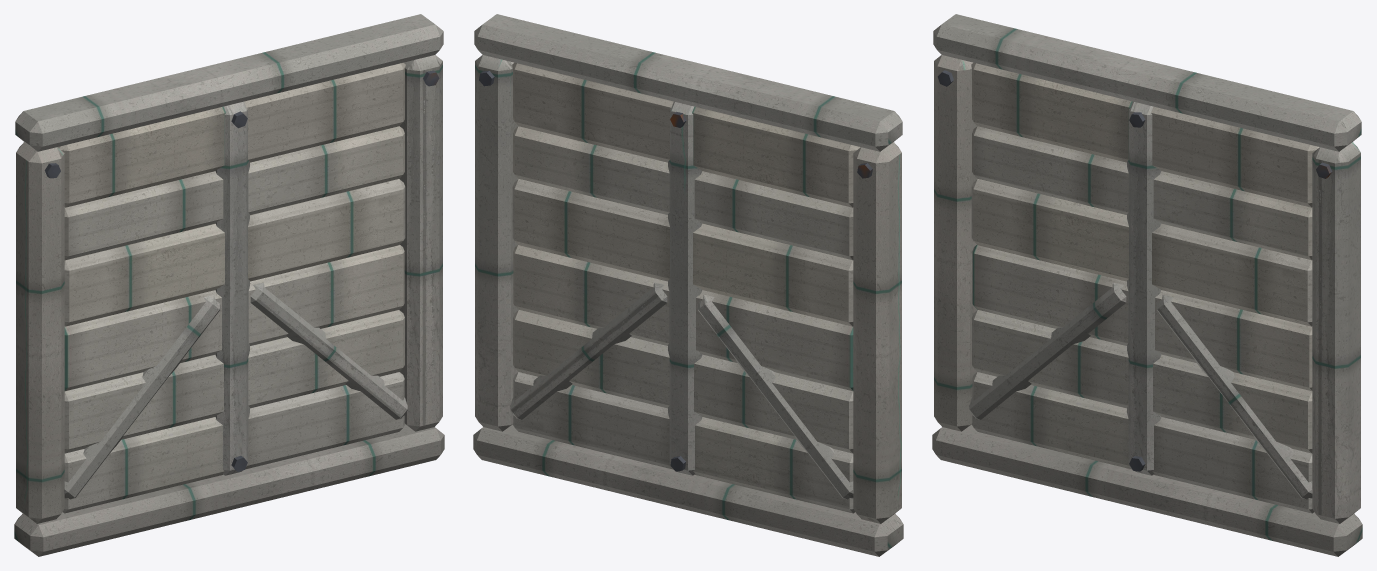
The model's file is duvar.glb.
3 views of the same model, side by side, from view 1: azimuth 30°, elevation 25°; view 2: azimuth 150°, elevation 25°; view 3: azimuth 330°, elevation 25° (orthographic).
Parts seen in each view (by area): view 1: duvar; view 2: duvar; view 3: duvar.
Part boxes in pixels (left/top/right/bottom): duvar: left=14, top=14, right=444, bottom=556; duvar: left=473, top=14, right=903, bottom=556; duvar: left=932, top=14, right=1362, bottom=556.
Bounding box in the file's own units: 3 × 3.01 × 0.35.
1 material, 1 textured.
